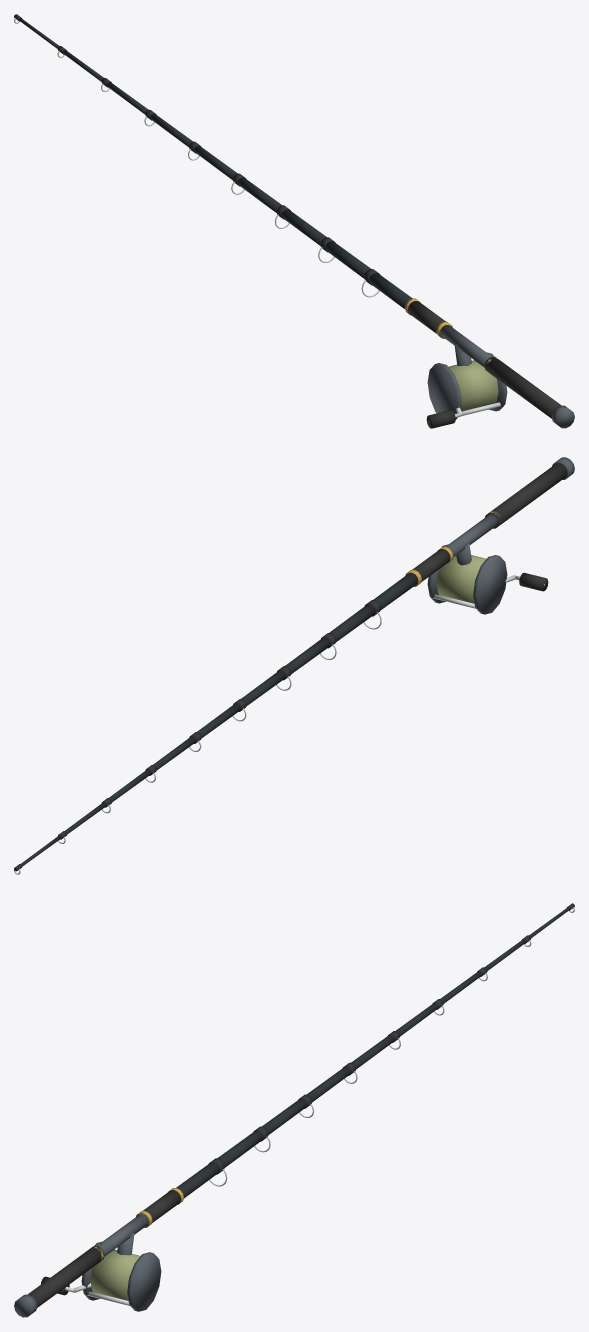
Rendered from spinning_rod.glb.
3 views of the same model, one above another, from view 1: azimuth 30°, elevation 25°; view 2: azimuth 150°, elevation 25°; view 3: azimuth 330°, elevation 25° (orthographic).
Parts seen in each view (by area): view 1: Heavy reel drum, Butt grip, Reel side plate, Reel seat, Tapered graphite, Tapered graphite.001, Foregrip, Tapered graphite.002; view 2: Reel side plate, Heavy reel drum, Butt grip, Reel seat, Tapered graphite, Tapered graphite.001, Foregrip, Tapered graphite.002; view 3: Heavy reel drum, Reel side plate.001, Butt grip, Reel seat, Tapered graphite, Tapered graphite.001, Foregrip, Tapered graphite.002.
Boxes of the visible parts, box(x1,y1,x2,y2) form: Heavy reel drum: box(448, 360, 498, 411); Butt grip: box(484, 357, 561, 418); Reel side plate: box(427, 363, 461, 419); Reel seat: box(440, 325, 491, 367); Tapered graphite: box(369, 273, 412, 308); Tapered graphite.001: box(325, 241, 370, 278); Foregrip: box(407, 301, 451, 338); Tapered graphite.002: box(281, 209, 326, 245); Reel side plate: box(473, 555, 507, 614); Heavy reel drum: box(436, 555, 486, 603); Butt grip: box(485, 463, 567, 528); Reel seat: box(446, 515, 497, 556); Tapered graphite: box(369, 573, 418, 609); Tapered graphite.001: box(329, 604, 375, 641); Foregrip: box(412, 549, 450, 581); Tapered graphite.002: box(285, 637, 330, 674); Heavy reel drum: box(90, 1249, 140, 1300); Reel side plate.001: box(127, 1252, 161, 1311); Butt grip: box(28, 1246, 104, 1307); Reel seat: box(97, 1214, 148, 1256); Tapered graphite: box(176, 1162, 219, 1198); Tapered graphite.001: box(217, 1130, 263, 1167); Foregrip: box(136, 1190, 181, 1227); Tapered graphite.002: box(262, 1098, 307, 1134).
Size of the model in its own units: 0.166 by 0.149 by 1.92.
